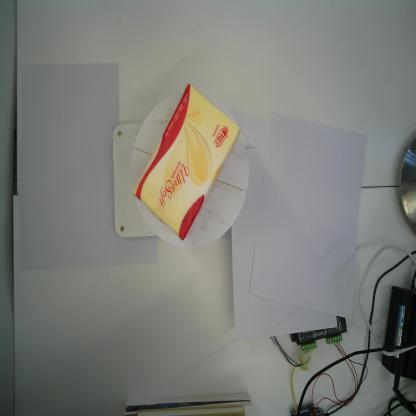Tissue: (132, 83, 241, 242)
